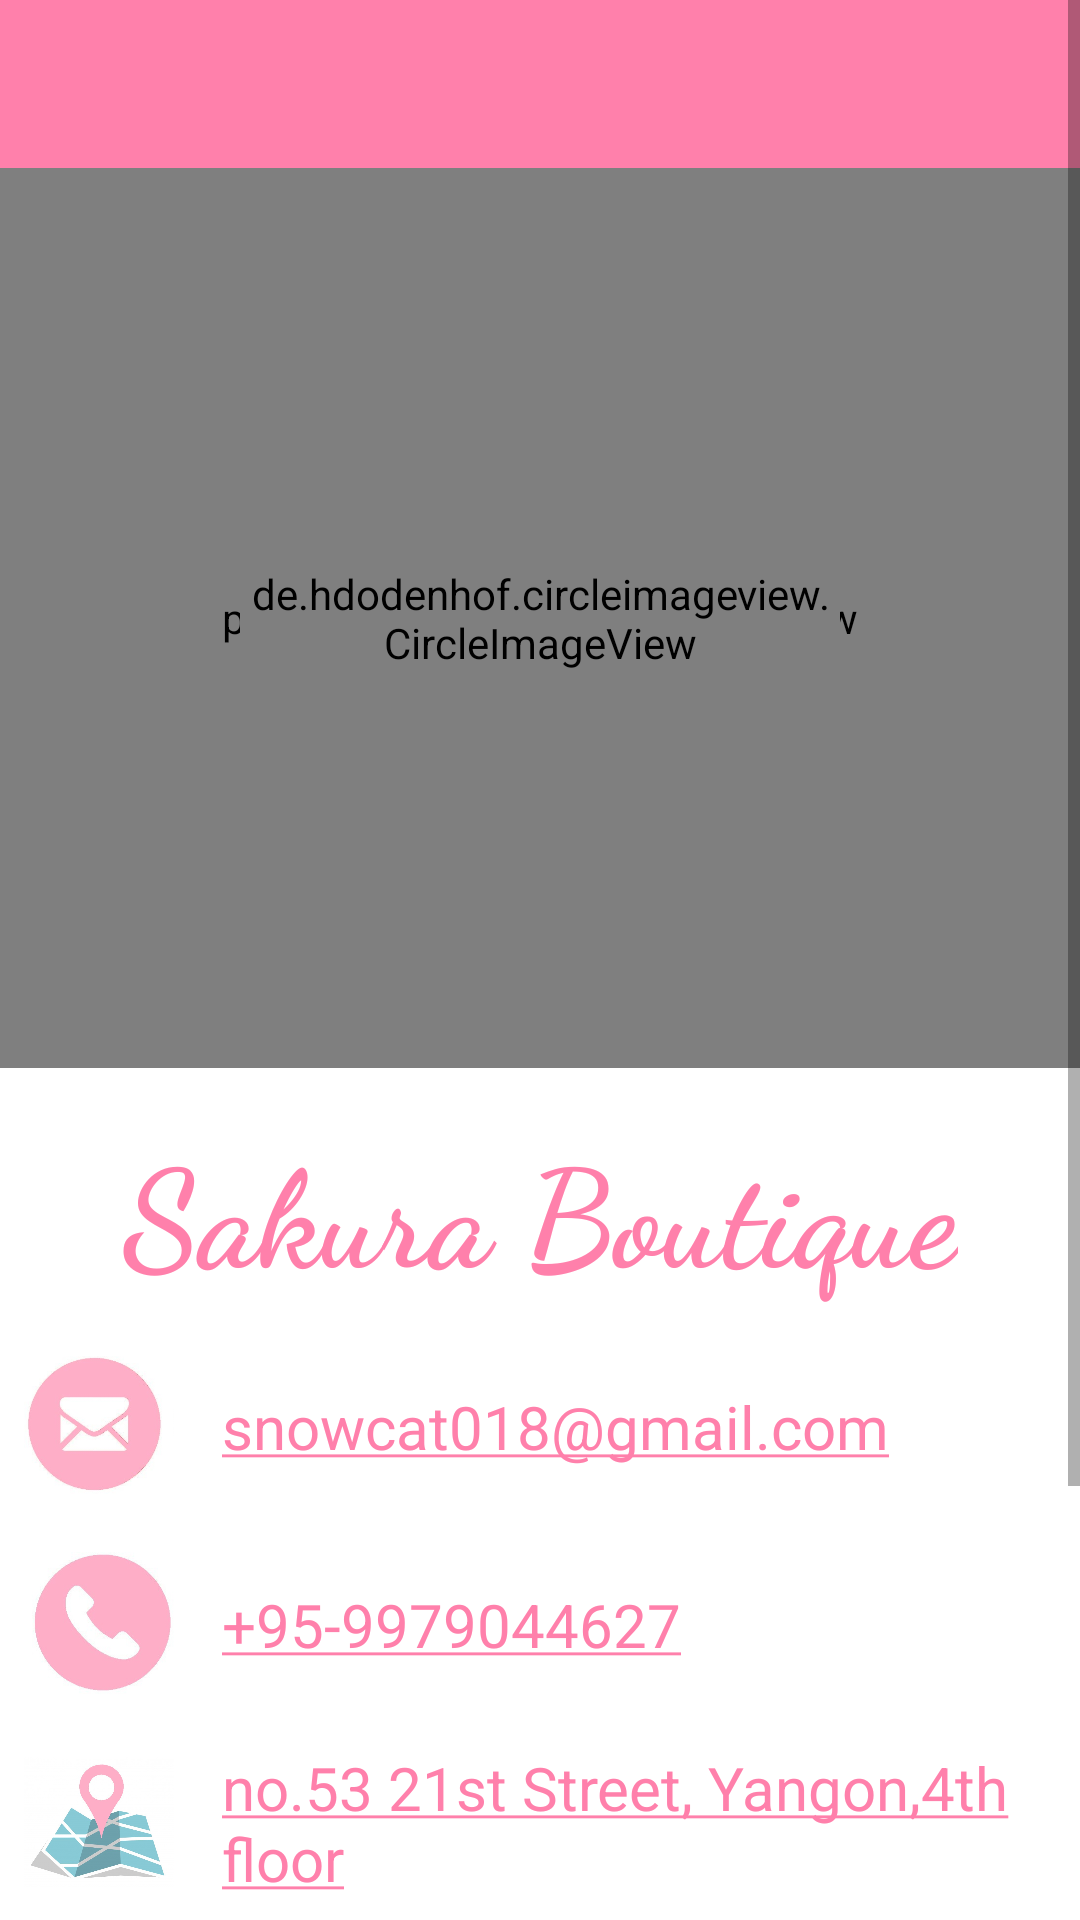

Named icons in this screenshot (1080w x 1920h) and their bounding boxes, (x1, y1, x2, y2):
location: (31, 1764, 164, 1878)
phone: (35, 1555, 171, 1691)
